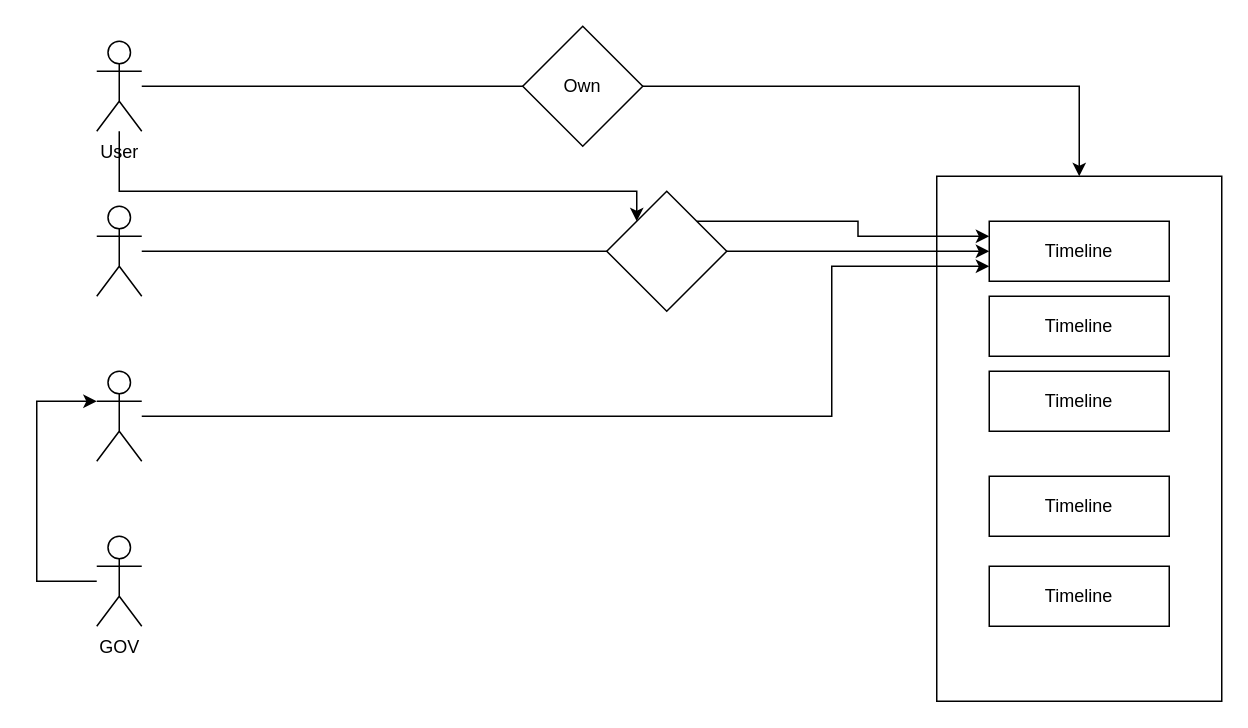
Some shapes in this 1248 by 728 pixel diagram are drawn without their labels. Each missing label, with the box of its shape:
Company: (95, 205, 142, 296)
CREATE: (605, 190, 727, 311)
Profile: (935, 175, 1222, 701)
University: (95, 370, 142, 461)
